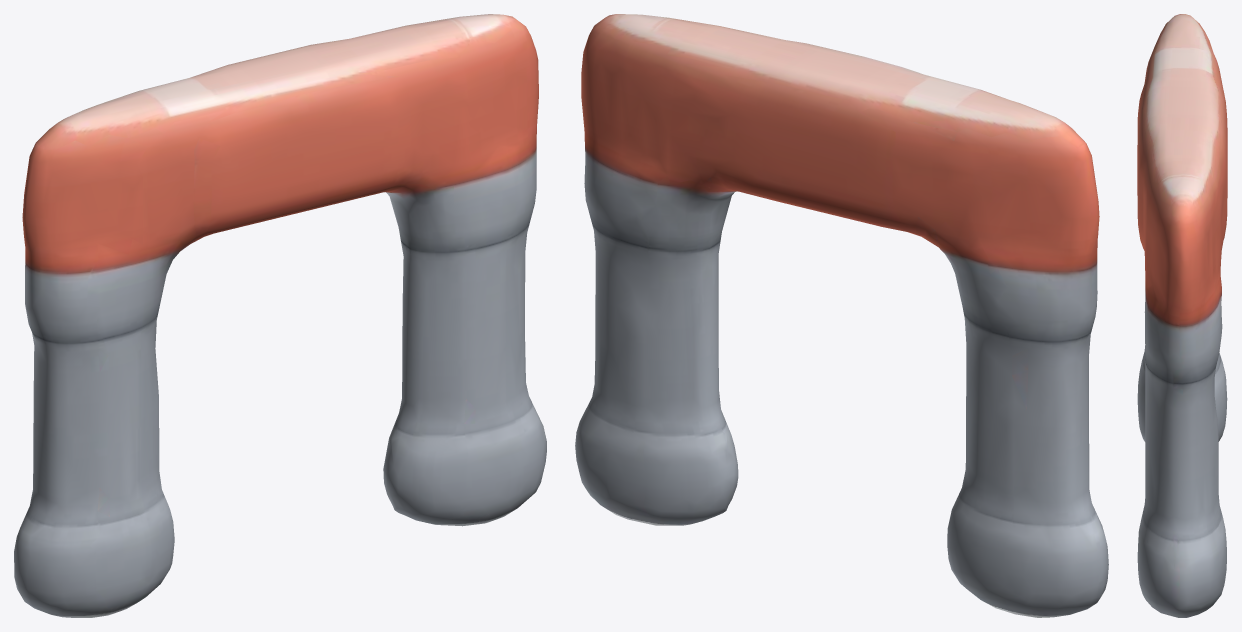
Rendered from arch.glb.
3 renders of one model, left to right at view 1: azimuth 30°, elevation 25°; view 2: azimuth 150°, elevation 25°; view 3: azimuth 270°, elevation 25°, orthographic. The views are drawn at different scales.
Visible parts, largest first — view 1: prop; view 2: prop; view 3: prop.
Part boxes in pixels (x1,y1,x2,y2): prop: (14,14,546,617); prop: (575,14,1108,617); prop: (1137,14,1227,617).
Bounding box in the file's own units: 4.04 × 3.64 × 0.7.
Materials: 1 (1 with a texture image).
